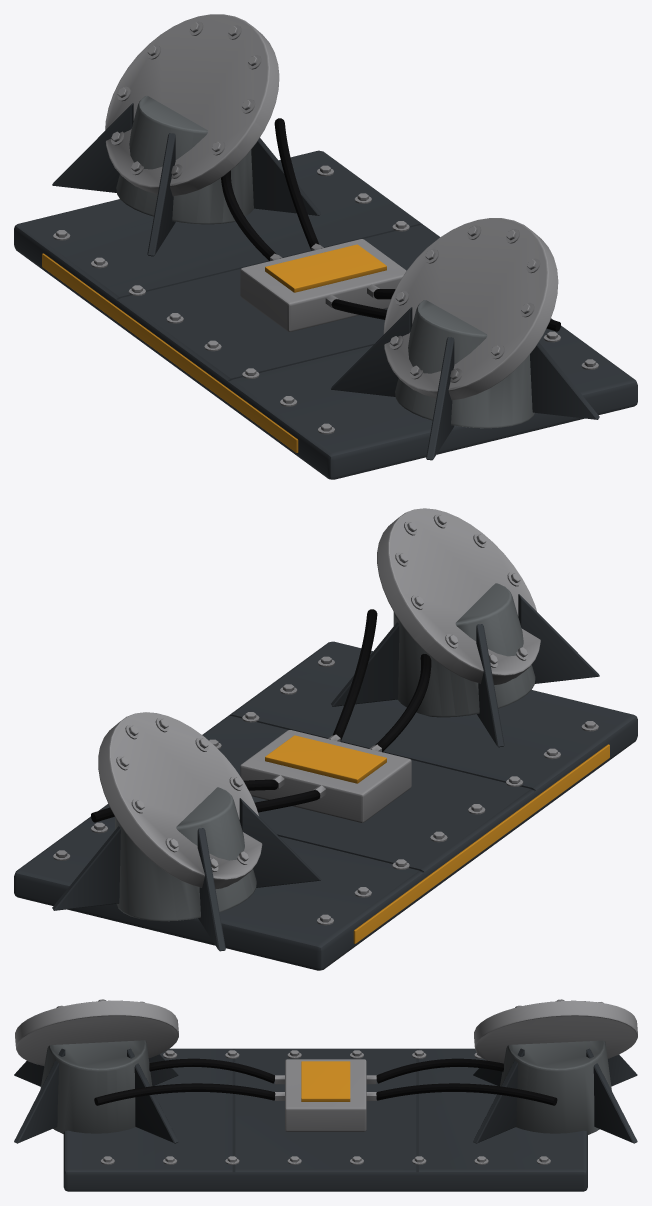
The model's file is bastion.saddle_right.glb.
3 renders of one model, top to bottom at view 1: azimuth 30°, elevation 25°; view 2: azimuth 150°, elevation 25°; view 3: azimuth 270°, elevation 25°, orthographic. The views are drawn at different scales.
Size of the model in its own units: 1.81 by 1.04 by 3.81.
